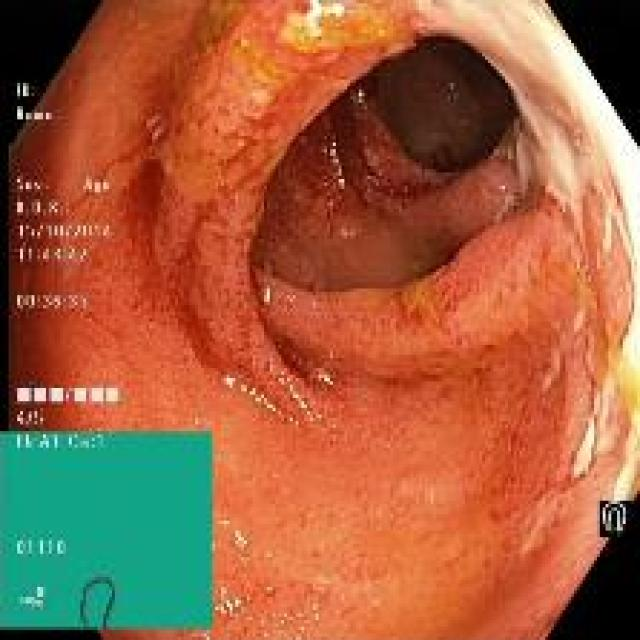ulcerative-colitis-grade-3: (10, 4, 632, 637)
